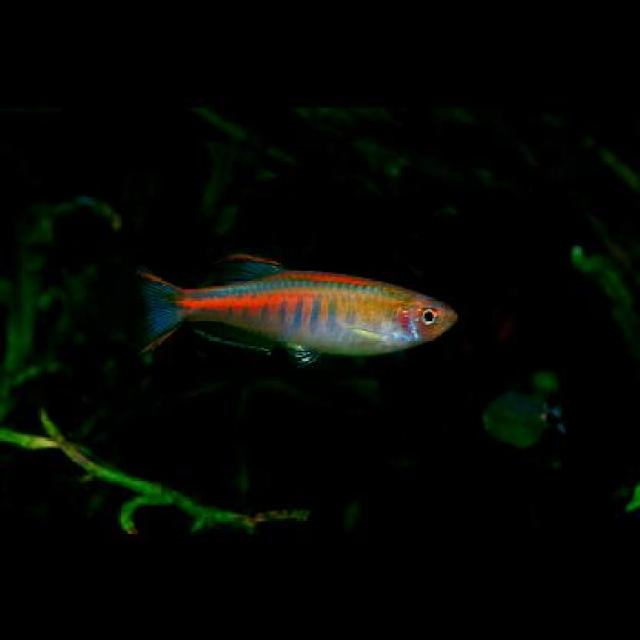ZebraFish: (142, 252, 446, 361)
